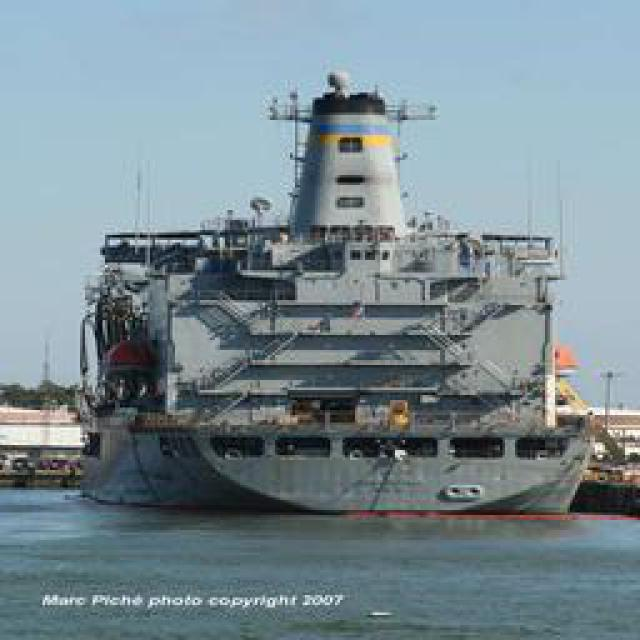Ship: (76, 62, 611, 512)
